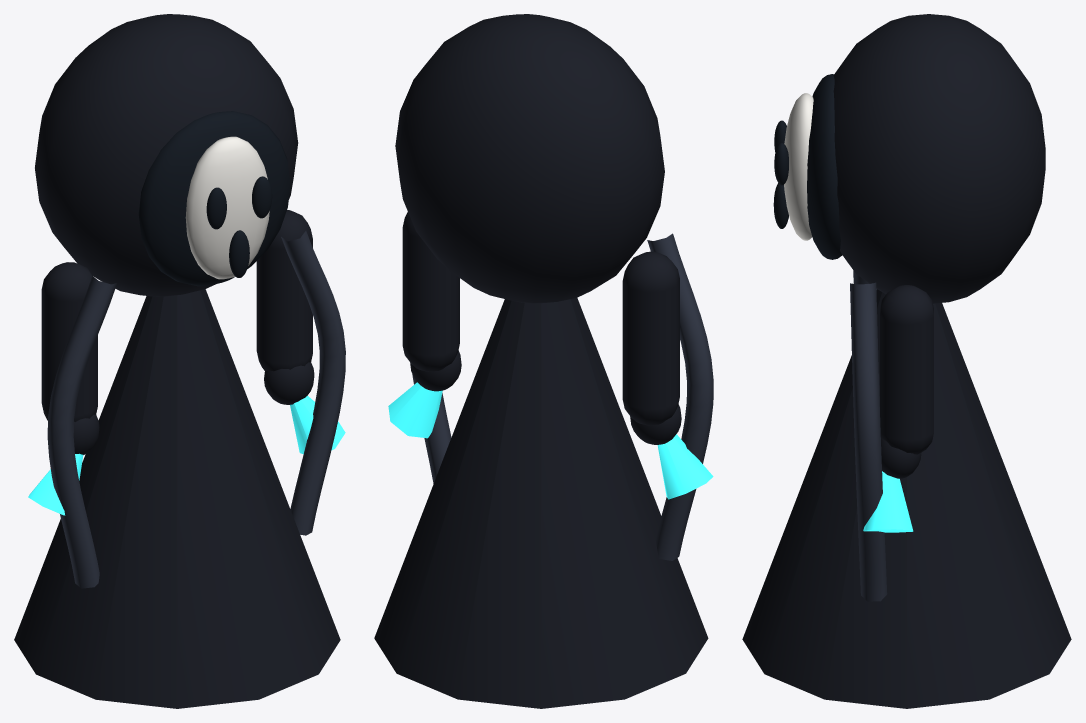
The model's file is profile-triton.glb.
3 views of the same model, side by side, from view 1: azimuth 30°, elevation 25°; view 2: azimuth 150°, elevation 25°; view 3: azimuth 270°, elevation 25° (orthographic). The views are drawn at different scales.
Parts seen in each view (by area): view 1: robe, hood, robe-hem (×2), hood-recess, white-mask, right-sleeve, left-sleeve, teal-claw (×2), right-hand-mesh, mask-eye (×2), left-hand-mesh, mask-mouth; view 2: robe, hood, left-sleeve, robe-hem (×2), right-sleeve, teal-claw (×2), right-hand-mesh, left-hand-mesh; view 3: robe, hood, right-sleeve, robe-hem, hood-recess, white-mask, teal-claw, right-hand-mesh, mask-eye, mask-mouth.
Boxes of the visible parts, x1=… form: robe: x1=14, y1=289, x2=340, y2=708; hood: x1=35, y1=14, x2=298, y2=296; robe-hem (×2): x1=47, y1=231, x2=345, y2=588; hood-recess: x1=138, y1=111, x2=290, y2=286; white-mask: x1=185, y1=136, x2=269, y2=279; right-sleeve: x1=256, y1=210, x2=312, y2=371; left-sleeve: x1=41, y1=262, x2=97, y2=421; teal-claw (×2): x1=28, y1=396, x2=345, y2=515; right-hand-mesh: x1=264, y1=362, x2=314, y2=404; mask-eye (×2): x1=206, y1=176, x2=272, y2=229; left-hand-mesh: x1=73, y1=414, x2=99, y2=454; mask-mouth: x1=229, y1=230, x2=249, y2=277; robe: x1=374, y1=298, x2=708, y2=708; hood: x1=395, y1=14, x2=664, y2=303; left-sleeve: x1=622, y1=251, x2=679, y2=425; robe-hem (×2): x1=412, y1=233, x2=713, y2=560; right-sleeve: x1=402, y1=212, x2=459, y2=371; teal-claw (×2): x1=388, y1=382, x2=713, y2=499; right-hand-mesh: x1=410, y1=350, x2=461, y2=391; left-hand-mesh: x1=630, y1=404, x2=681, y2=444; robe: x1=742, y1=289, x2=1071, y2=708; hood: x1=833, y1=14, x2=1045, y2=303; right-sleeve: x1=880, y1=285, x2=933, y2=454; robe-hem: x1=850, y1=282, x2=887, y2=601; hood-recess: x1=807, y1=74, x2=842, y2=259; white-mask: x1=784, y1=93, x2=813, y2=240; teal-claw: x1=863, y1=471, x2=913, y2=532; right-hand-mesh: x1=881, y1=438, x2=921, y2=478; mask-eye: x1=774, y1=142, x2=788, y2=185; mask-mouth: x1=773, y1=183, x2=788, y2=228.
Size of the model in its own units: 1.65 by 3.09 by 1.5.
